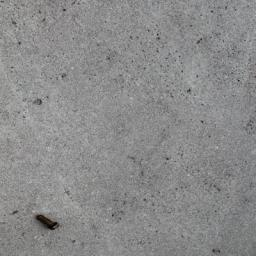FOD: (35, 212, 63, 233)
